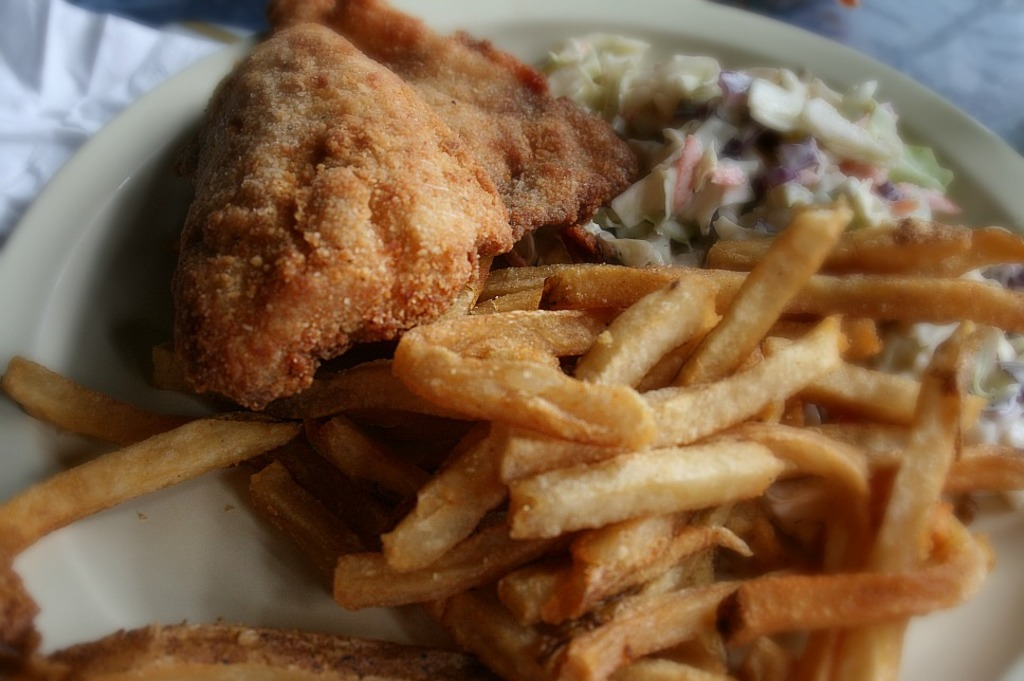French fries: (2, 193, 1022, 679)
